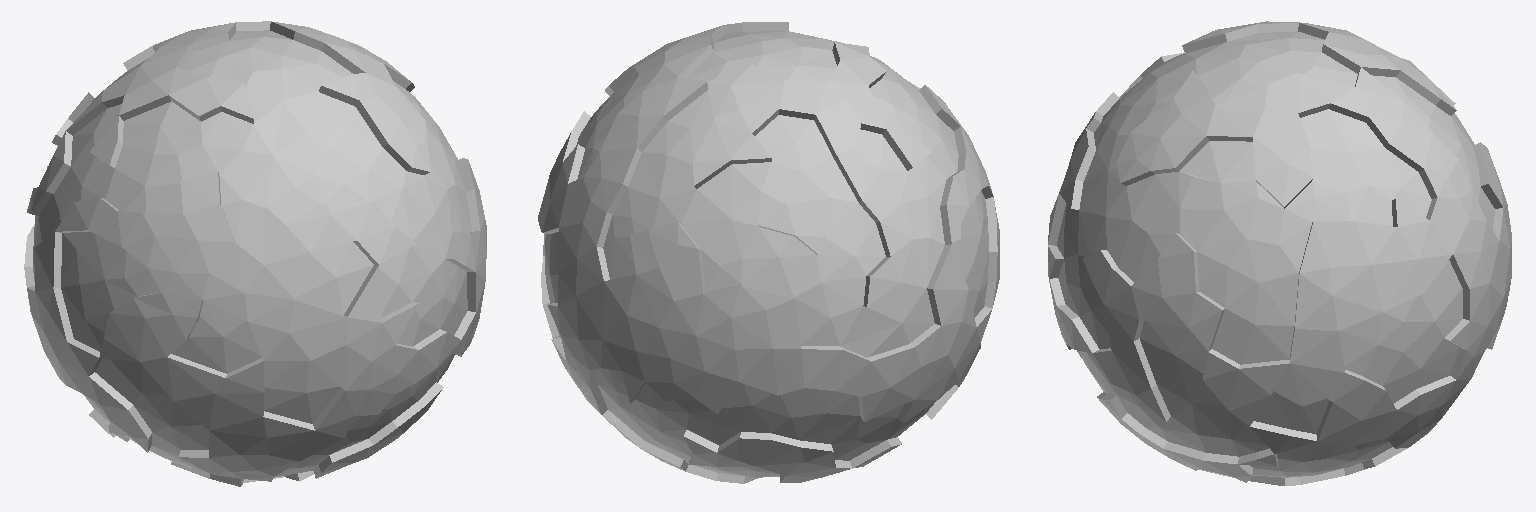
Rendered from planetD.obj.
3 renders of one model, left to right at view 1: azimuth 30°, elevation 25°; view 2: azimuth 150°, elevation 25°; view 3: azimuth 270°, elevation 25°, orthographic.
Visible parts, largest first — view 1: Planet_4_Cube.003; view 2: Planet_4_Cube.003; view 3: Planet_4_Cube.003.
Boxes of the visible parts, x1,y1,x2,y2 form: Planet_4_Cube.003: [24, 21, 486, 486]; Planet_4_Cube.003: [538, 22, 999, 483]; Planet_4_Cube.003: [1048, 21, 1511, 485].
Bounding box in the file's own units: 2.09 × 2.07 × 2.08.